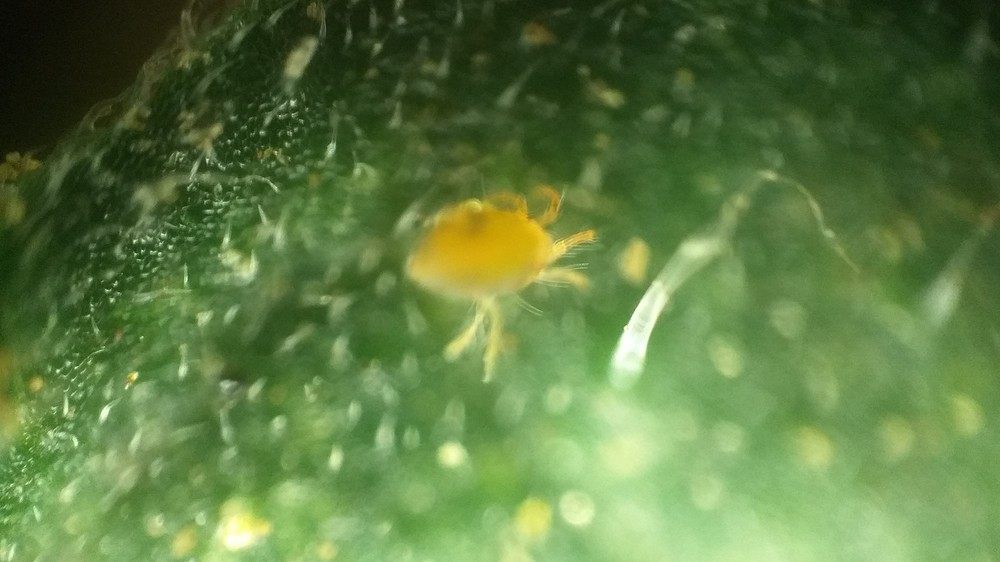Aracnido Rojo: (347, 149, 649, 394)
